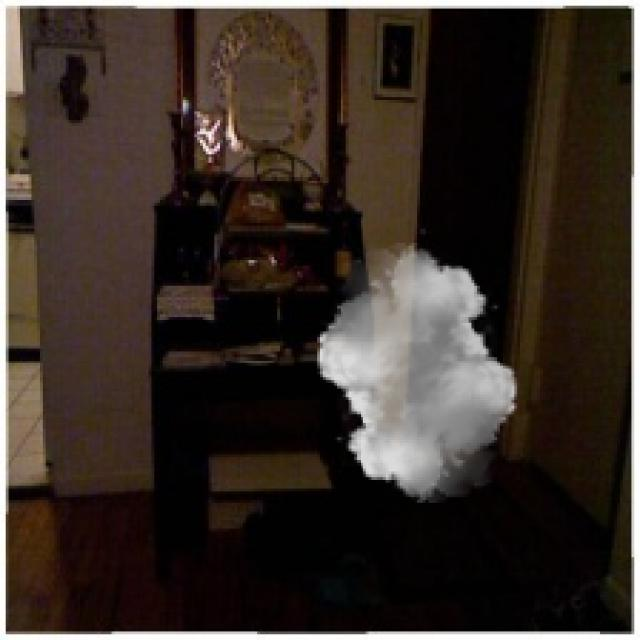smoke: (308, 243, 526, 503)
